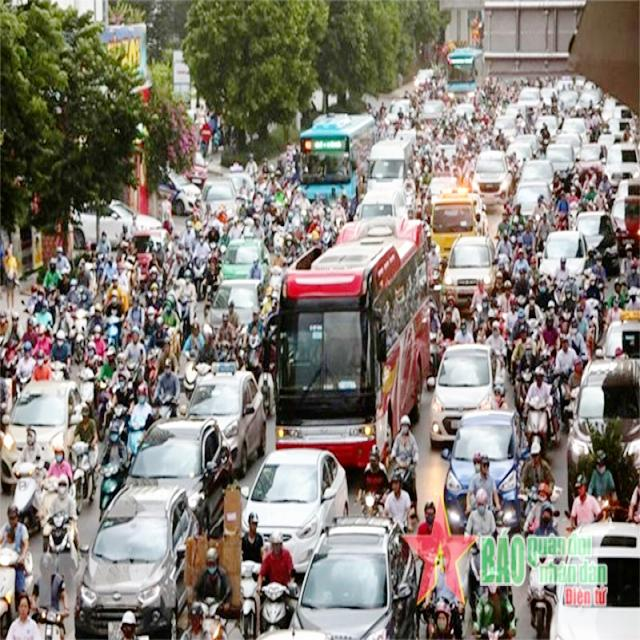Car: (286, 228, 432, 448), (252, 514, 418, 638), (74, 480, 198, 639), (239, 447, 349, 576), (125, 416, 232, 537), (547, 520, 639, 638), (441, 408, 526, 534), (564, 352, 639, 488), (0, 380, 85, 492), (184, 361, 266, 477), (428, 343, 500, 448), (301, 112, 380, 196), (70, 198, 164, 249), (441, 234, 498, 310), (430, 189, 486, 262), (204, 278, 265, 334), (574, 210, 619, 273), (538, 230, 588, 286), (472, 150, 512, 206), (220, 237, 270, 281), (157, 167, 200, 216), (354, 186, 408, 221), (610, 194, 640, 256), (602, 311, 639, 360), (196, 178, 238, 221), (602, 141, 640, 188), (511, 180, 553, 222), (574, 142, 608, 177), (518, 158, 555, 187), (545, 142, 575, 176), (226, 172, 255, 205), (183, 150, 208, 188), (384, 98, 414, 125), (418, 99, 444, 128), (414, 68, 434, 87)
